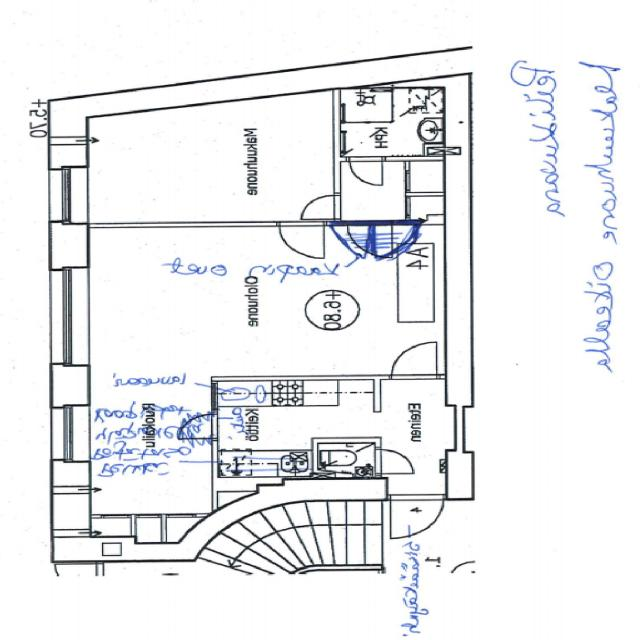door: (390, 494, 442, 538), (278, 223, 324, 260), (391, 343, 436, 380), (301, 195, 341, 219), (349, 156, 382, 185), (342, 222, 373, 250), (374, 222, 404, 250), (374, 453, 408, 474)
